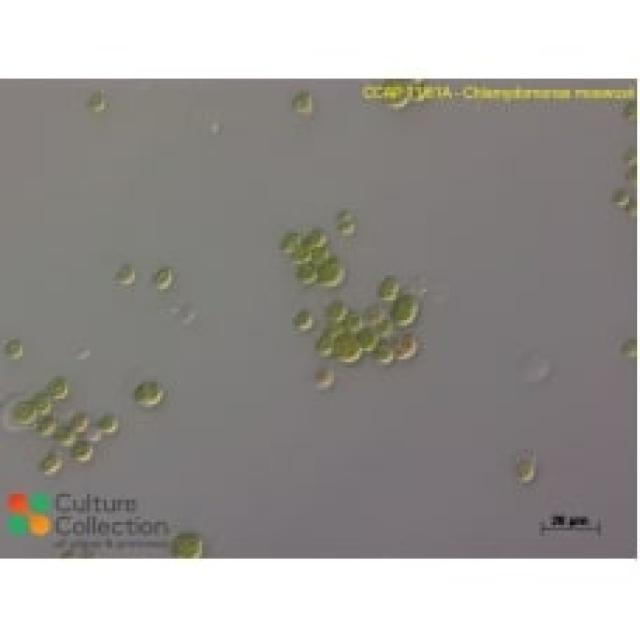Green Algae: (132, 376, 171, 407), (388, 289, 418, 329), (146, 264, 180, 289), (171, 530, 202, 556), (3, 334, 31, 362), (337, 331, 362, 362), (317, 258, 343, 286), (112, 261, 138, 289), (514, 454, 536, 486), (11, 402, 37, 429), (396, 334, 421, 362), (87, 81, 109, 112), (314, 328, 337, 354), (95, 413, 126, 432), (312, 362, 334, 387), (40, 455, 68, 474), (48, 379, 73, 399), (323, 298, 345, 320), (73, 444, 101, 461), (357, 323, 376, 348), (306, 227, 326, 250), (379, 278, 399, 300), (295, 306, 314, 328), (289, 92, 312, 110), (376, 345, 396, 365), (278, 230, 295, 253), (37, 390, 56, 410), (51, 429, 73, 446), (298, 261, 314, 284), (67, 412, 87, 430), (612, 185, 629, 205)
